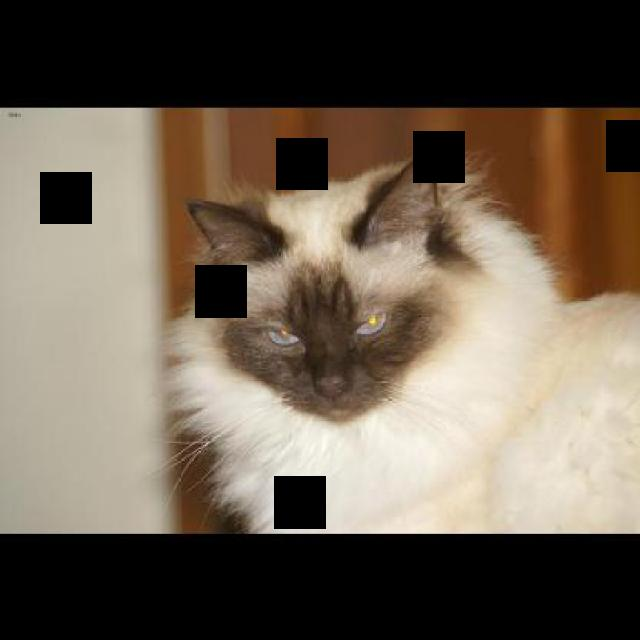unauthorized: (156, 146, 638, 534)
